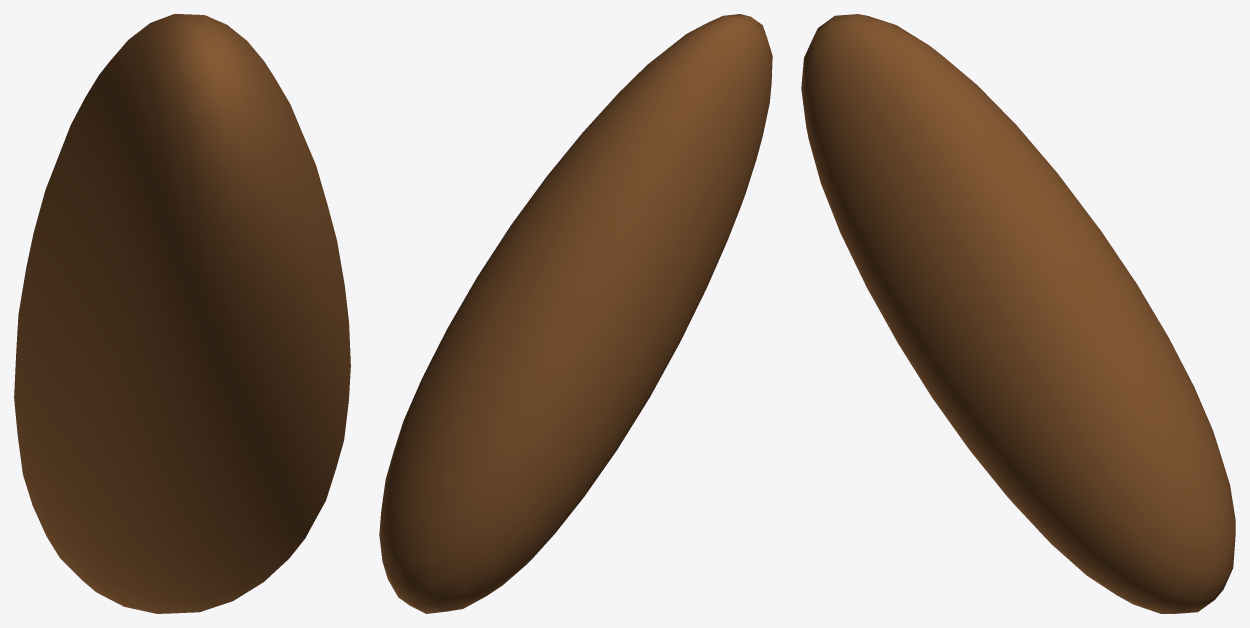
File: RightArmBear.fbx
The picture shows the model from 3 angles, left to right: view 1: azimuth 30°, elevation 25°; view 2: azimuth 150°, elevation 25°; view 3: azimuth 270°, elevation 25°; orthographic projection. The views are drawn at different scales.
Parts seen in each view (by area): view 1: RightArm; view 2: RightArm; view 3: RightArm.
Part boxes in pixels (x1,y1,x2,y2): RightArm: [14, 14, 350, 613]; RightArm: [379, 14, 772, 613]; RightArm: [801, 14, 1235, 613].
Bounding box in the file's own units: 41.74 × 86.55 × 65.02.
